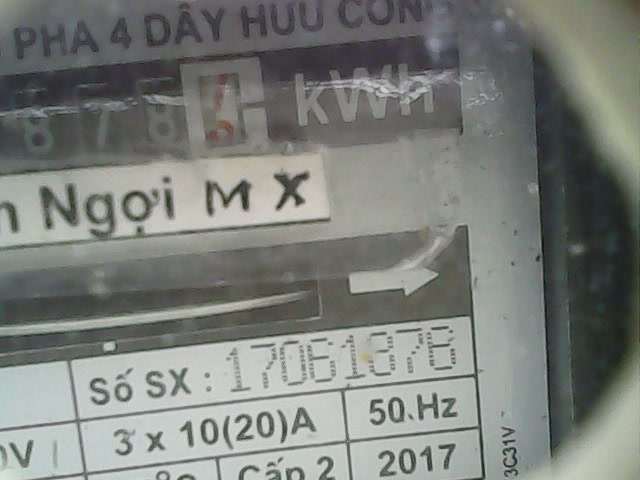phy_plate: (1, 55, 282, 178)
